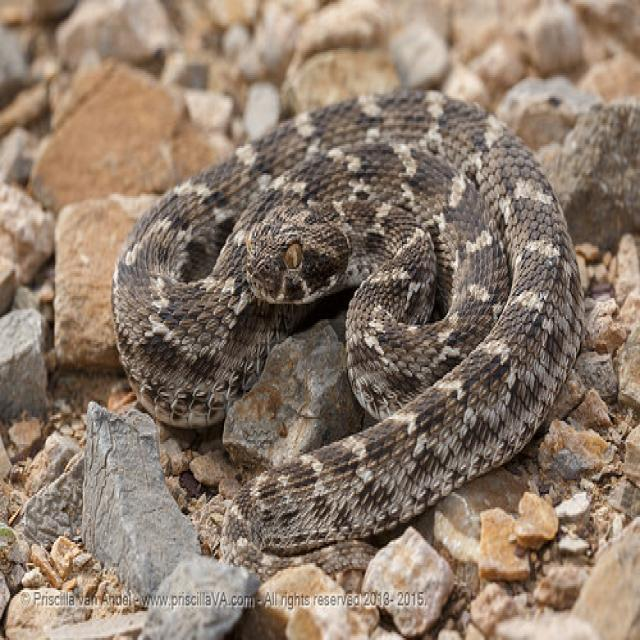Snake: (110, 85, 585, 582)
